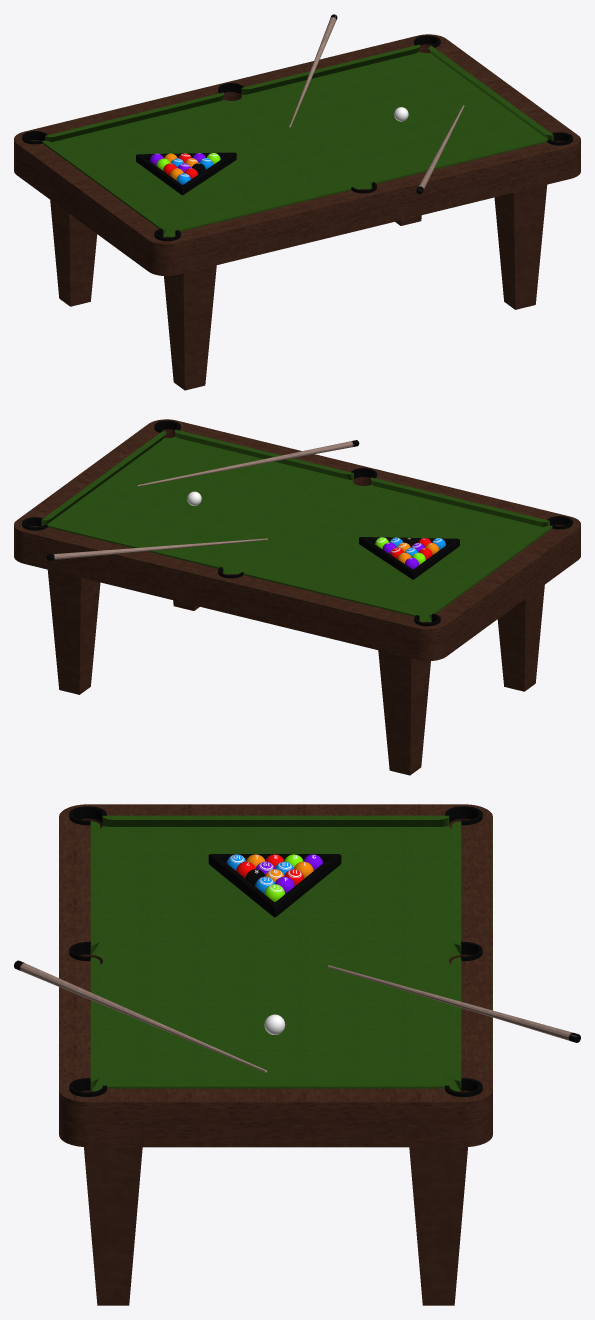
File: pool_table.glb
3 renders of one model, top to bottom at view 1: azimuth 30°, elevation 25°; view 2: azimuth 150°, elevation 25°; view 3: azimuth 270°, elevation 25°, orthographic. The views are drawn at different scales.
Parts seen in each view (by area): view 1: Pool table; view 2: Pool table; view 3: Pool table.
Boxes of the visible parts, x1=… form: Pool table: x1=14, y1=14, x2=580, y2=390; Pool table: x1=14, y1=419, x2=580, y2=775; Pool table: x1=14, y1=804, x2=580, y2=1305.
Size of the model in its own units: 2.75 by 1.07 by 2.21.
Materials: 2 (2 with a texture image).
